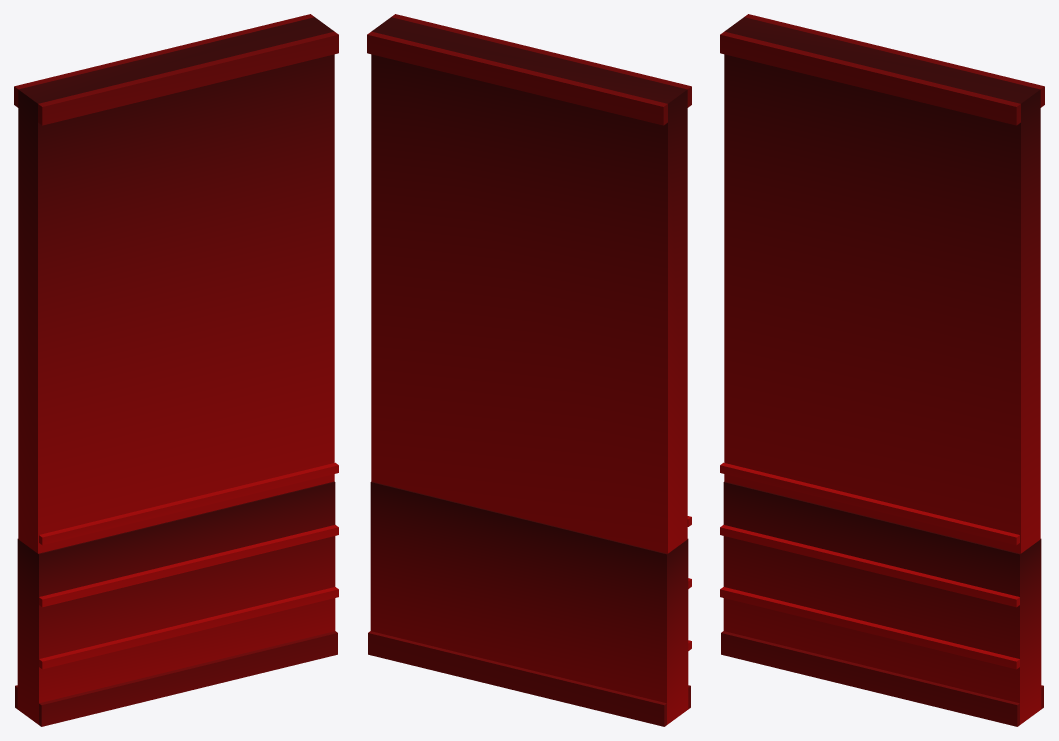
The model's file is wall_2m_exterior.glb.
3 renders of one model, left to right at view 1: azimuth 30°, elevation 25°; view 2: azimuth 150°, elevation 25°; view 3: azimuth 330°, elevation 25°, orthographic.
Visible parts, largest first — view 1: wall_2m_exterior; view 2: wall_2m_exterior; view 3: wall_2m_exterior.
Boxes of the visible parts, <box> form: wall_2m_exterior: <box>14,14,338,726</box>; wall_2m_exterior: <box>367,14,691,726</box>; wall_2m_exterior: <box>720,14,1044,726</box>.
Size of what is drawn, in the model's own units: 2 by 4 by 0.33.
